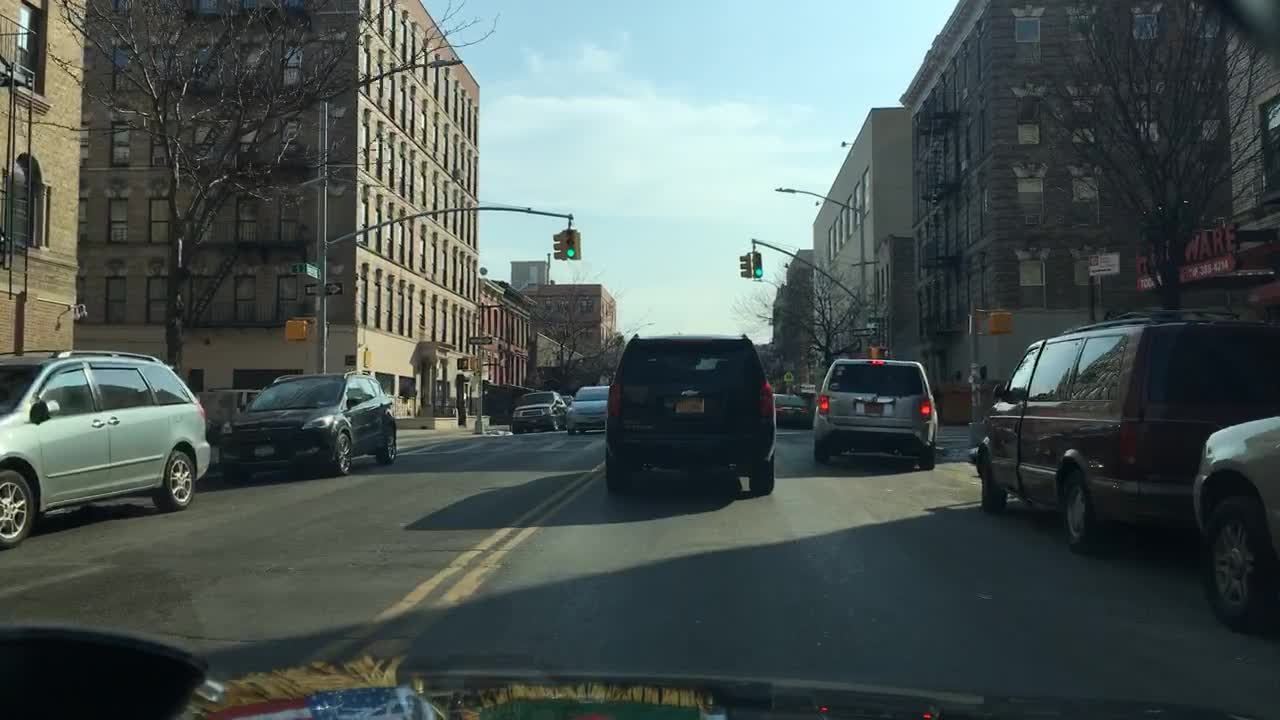car: (967, 304, 1279, 553), (0, 347, 209, 548), (602, 329, 779, 495), (216, 367, 401, 485), (1189, 413, 1278, 634), (810, 357, 943, 472), (196, 383, 268, 437), (510, 391, 567, 437), (565, 384, 610, 437), (770, 392, 812, 431), (565, 392, 577, 402)
traffic light: (991, 308, 1015, 333), (287, 317, 309, 341), (564, 227, 580, 258), (550, 231, 567, 259), (965, 311, 983, 337), (867, 344, 889, 362), (454, 356, 477, 372), (739, 252, 753, 277), (753, 252, 764, 279)
traffic sign: (1088, 252, 1118, 276), (307, 281, 346, 296), (287, 263, 314, 277), (302, 263, 323, 279), (848, 327, 876, 338), (466, 336, 493, 346), (783, 371, 795, 383)
